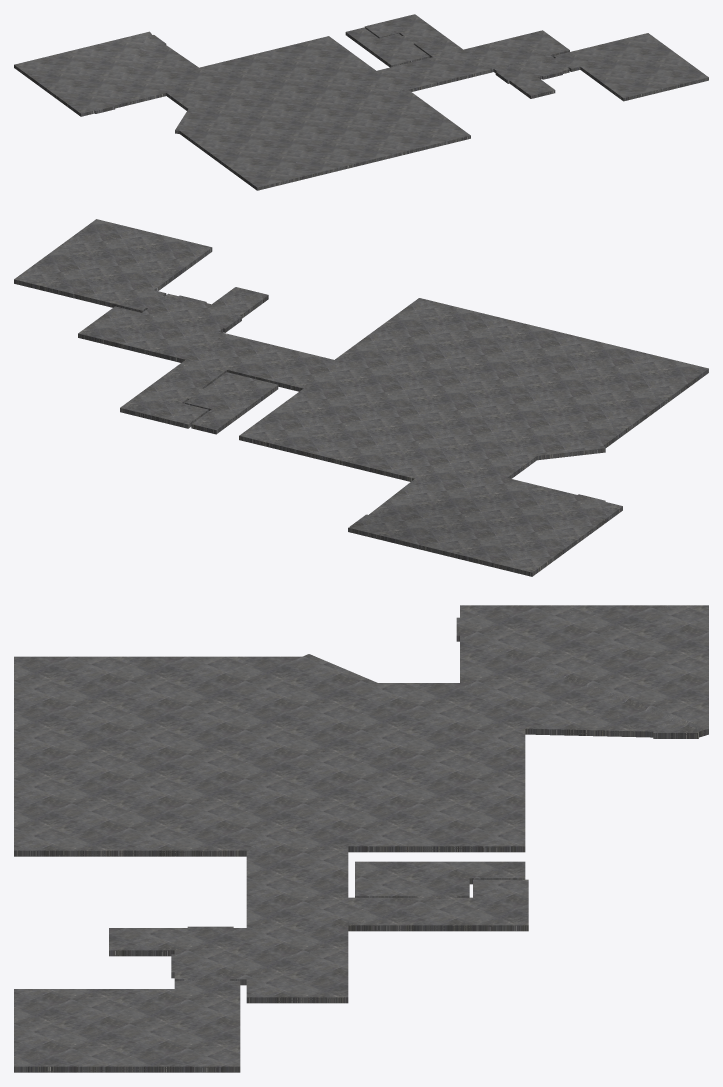
Rendered from 1989_kitchen_Floor_Pampa.gltf.
The picture shows the model from 3 angles, top to bottom: view 1: azimuth 30°, elevation 25°; view 2: azimuth 150°, elevation 25°; view 3: azimuth 270°, elevation 25°; orthographic projection. The views are drawn at different scales.
Visible parts, largest first — view 1: Line23799; view 2: Line23799; view 3: Line23799.
Boxes of the visible parts, box(x1,y1,x2,y2) form: Line23799: box(14, 14, 708, 190); Line23799: box(14, 219, 708, 576); Line23799: box(14, 605, 708, 1072).
Bounding box in the file's own units: 33.3 × 0.3 × 21.2.
Materials: 1 (1 with a texture image).
